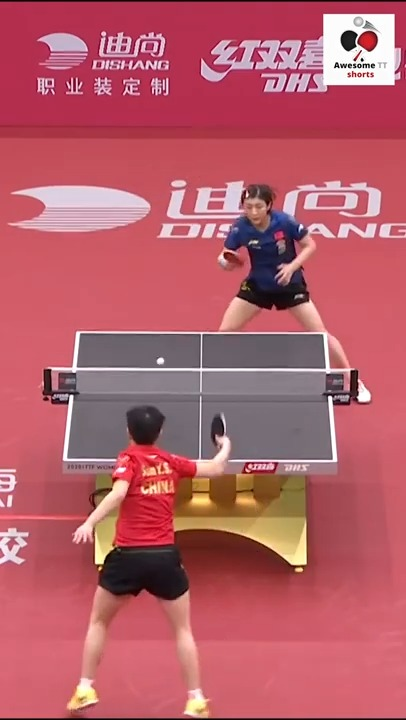Ball: (154, 357, 168, 367)
